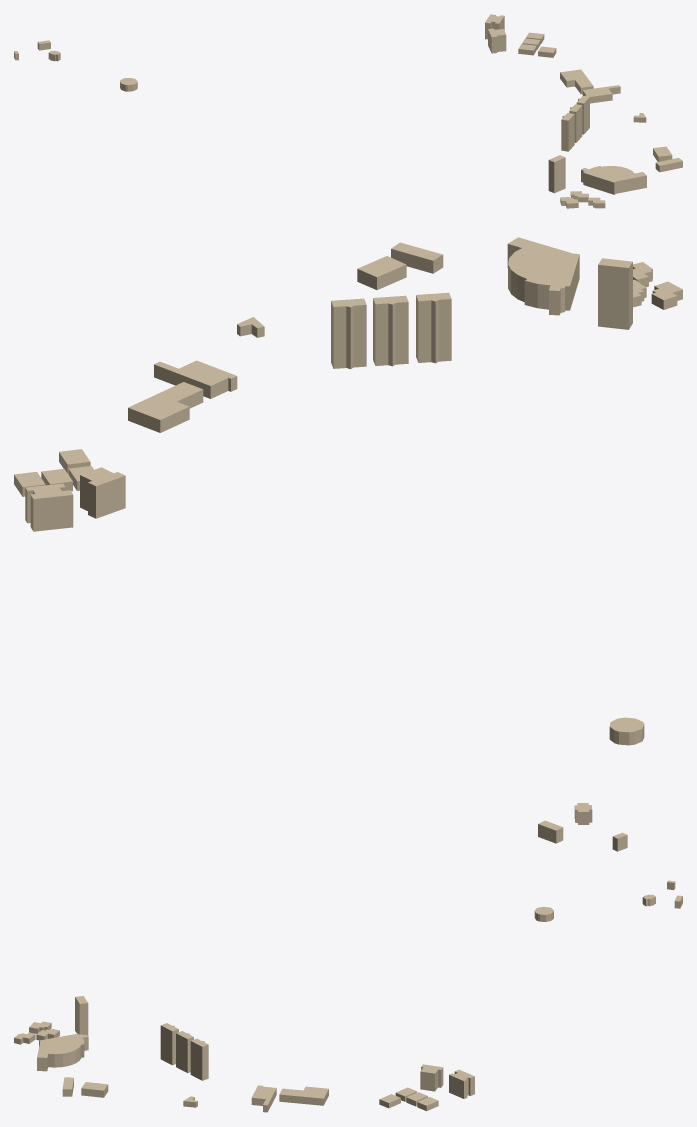
File: -13_-5-estimated-coarse.glb
3 views of the same model, one above another, from view 1: azimuth 30°, elevation 25°; view 2: azimuth 150°, elevation 25°; view 3: azimuth 270°, elevation 25° (orthographic). The views are drawn at different scales.
Bounding box in the file's own units: 808 × 57 × 1016.
